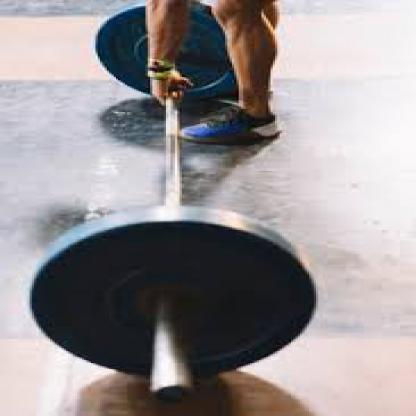Barbell: (124, 372, 224, 409)
